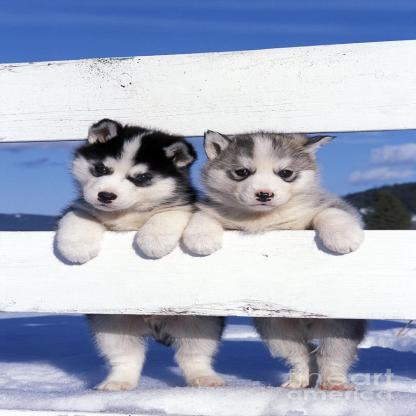dog: (55, 108, 234, 389), (184, 125, 366, 387)
